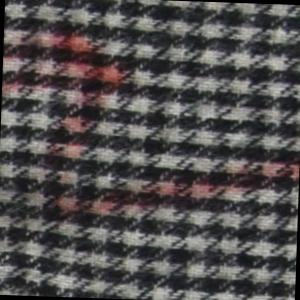Stain: (1, 27, 300, 236)
